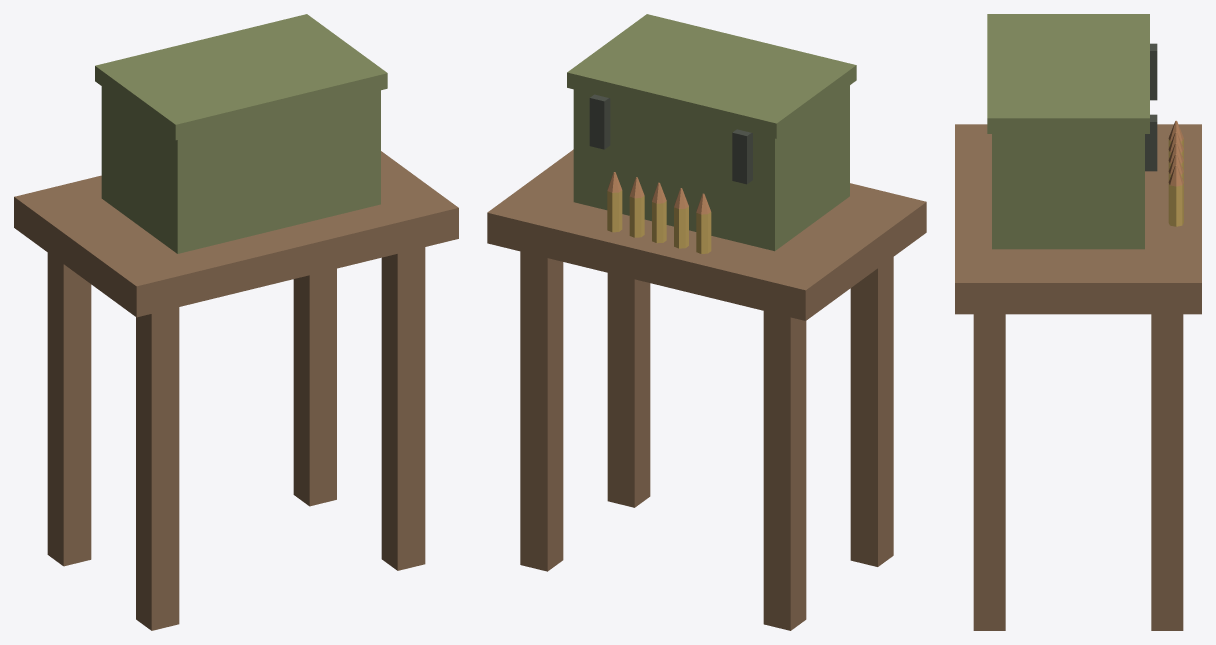
Rendered from AmmoUpgrade.fbx.
The picture shows the model from 3 angles, left to right: view 1: azimuth 30°, elevation 25°; view 2: azimuth 150°, elevation 25°; view 3: azimuth 270°, elevation 25°; orthographic projection.
Visible parts, largest first — view 1: AmmoCrate, BenchTop, AmmoLid, BenchLeg.001, BenchLeg.003, BenchLeg.002, BenchLeg; view 2: BenchTop, AmmoCrate, AmmoLid, BenchLeg, BenchLeg.002, BenchLeg.003, BenchLeg.001, CrateLatch, CrateLatch.001, Cartridge0, Cartridge1, Cartridge4; view 3: BenchTop, AmmoLid, AmmoCrate, BenchLeg, BenchLeg.001, Cartridge0, CrateLatch, CrateLatch.001.
Boxes of the visible parts, left/top/right/bottom form: AmmoCrate: left=101, top=86, right=380, bottom=253; BenchTop: left=14, top=151, right=458, bottom=317; AmmoLid: left=95, top=14, right=387, bottom=140; BenchLeg.001: left=381, top=247, right=425, bottom=570; BenchLeg.003: left=136, top=307, right=179, bottom=630; BenchLeg.002: left=47, top=253, right=91, bottom=566; BenchLeg: left=293, top=268, right=336, bottom=506; BenchTop: left=487, top=149, right=926, bottom=320; AmmoCrate: left=573, top=85, right=849, bottom=251; AmmoLid: left=567, top=14, right=856, bottom=138; BenchLeg: left=520, top=251, right=563, bottom=571; BenchLeg.002: left=763, top=311, right=806, bottom=630; BenchLeg.003: left=850, top=257, right=893, bottom=566; BenchLeg.001: left=607, top=273, right=650, bottom=507; CrateLatch: left=589, top=94, right=610, bottom=149; CrateLatch.001: left=732, top=129, right=752, bottom=184; Cartridge0: left=607, top=190, right=622, bottom=232; Cartridge1: left=629, top=195, right=644, bottom=237; Cartridge4: left=696, top=212, right=711, bottom=253; BenchTop: left=955, top=124, right=1201, bottom=314; AmmoLid: left=987, top=14, right=1149, bottom=133; AmmoCrate: left=992, top=134, right=1144, bottom=249; BenchLeg: left=1151, top=314, right=1183, bottom=630; BenchLeg.001: left=973, top=314, right=1005, bottom=630; Cartridge0: left=1168, top=183, right=1183, bottom=226; CrateLatch: left=1145, top=114, right=1157, bottom=171; CrateLatch.001: left=1150, top=43, right=1157, bottom=100.
Bounding box in the file's own units: 0.76 × 1.11 × 0.5.
